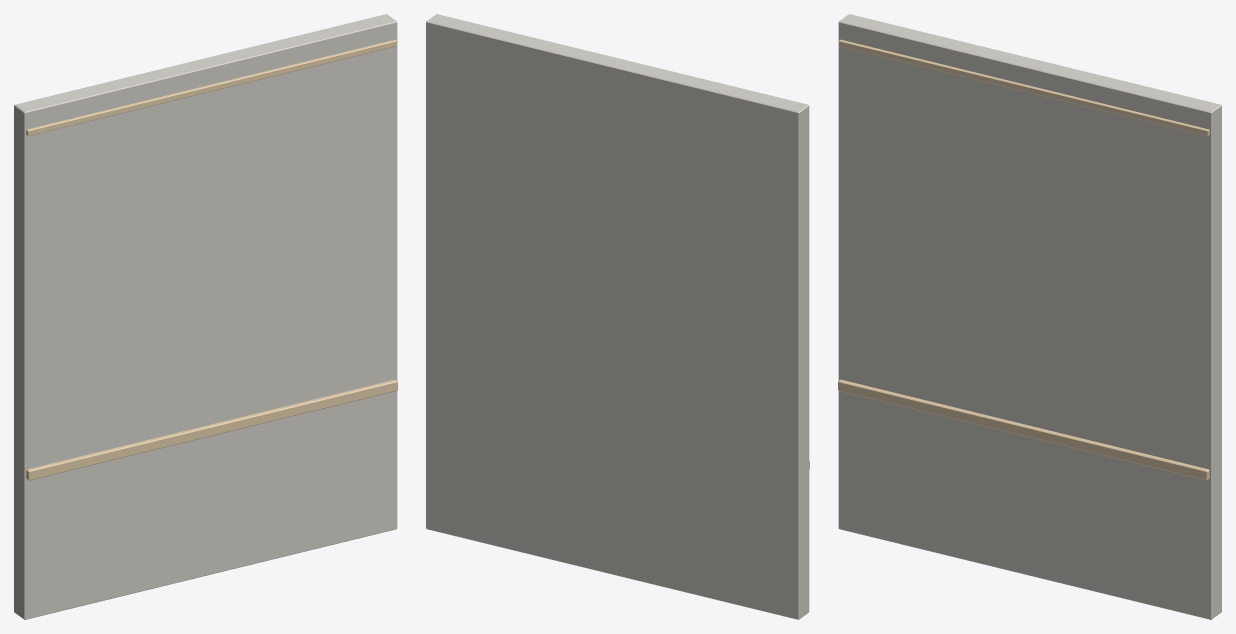
Rendered from jelly-friends-playroom-wall-bay-oak-2m-fedff54f__27629.glb.
The picture shows the model from 3 angles, left to right: view 1: azimuth 30°, elevation 25°; view 2: azimuth 150°, elevation 25°; view 3: azimuth 330°, elevation 25°; orthographic projection.
Visible parts, largest first — view 1: wall-bay-oak-2m; view 2: wall-bay-oak-2m; view 3: wall-bay-oak-2m.
Boxes of the visible parts, <box> form: wall-bay-oak-2m: <box>14,14,397,619</box>; wall-bay-oak-2m: <box>426,14,809,619</box>; wall-bay-oak-2m: <box>838,14,1221,619</box>.
Bounding box in the file's own units: 2 × 2.6 × 0.122.
